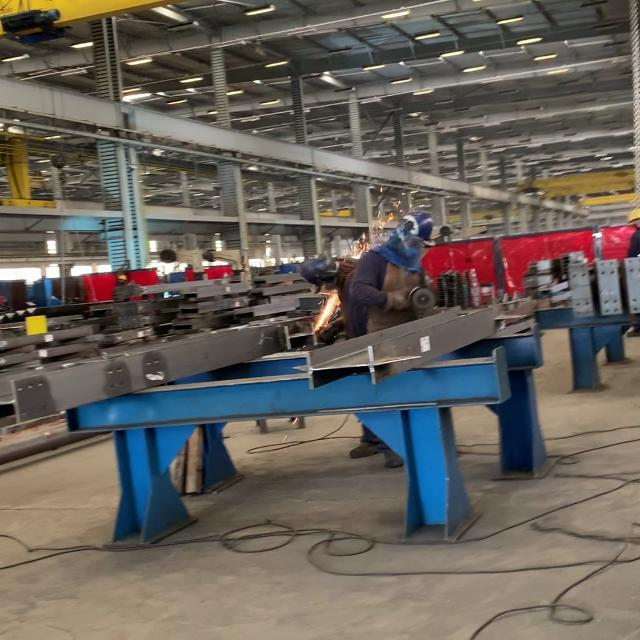eye-glass: (398, 236, 422, 271)
face-shield: (384, 290, 410, 311)
glove: (401, 209, 436, 241)
mask: (348, 210, 433, 318)
safety-shoe: (346, 443, 385, 459), (383, 449, 405, 466)
